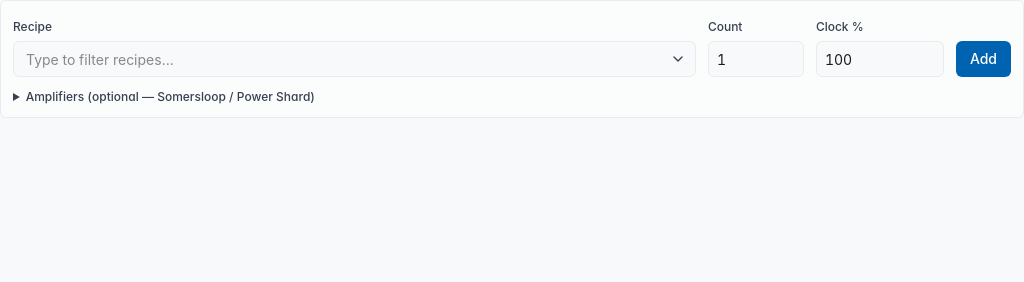
Test: <AddMachineForm /> — amplifiers › rejects a clock above the power-shard cap without round-tripping
Click the dropdown labelled "Recipe": (354, 59) [13,41,696,77]
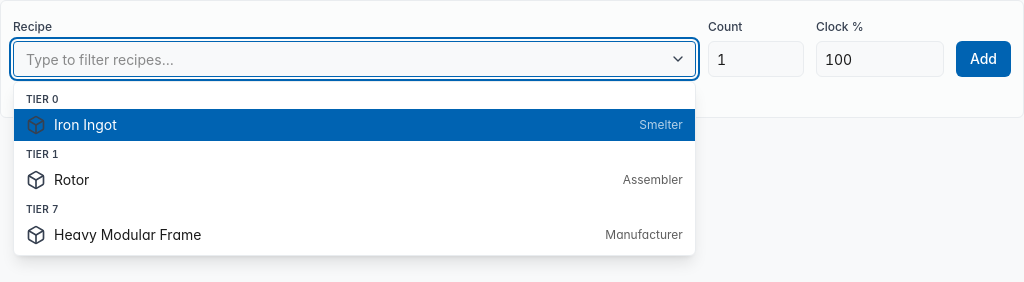
Press Arrowdown
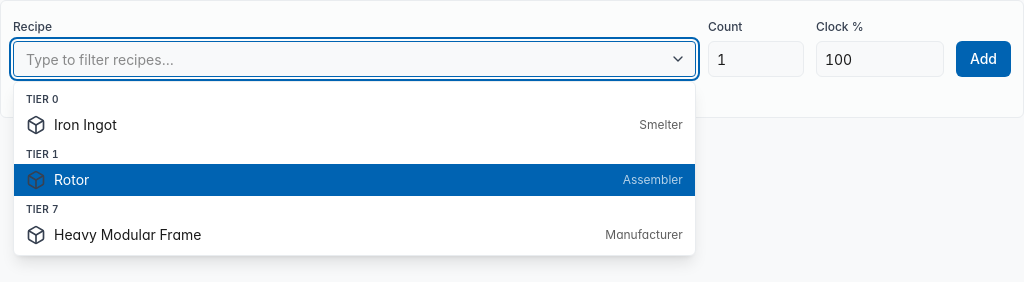
Click the option "Iron Ingot Smelter": (85, 124) [14,109,695,141]
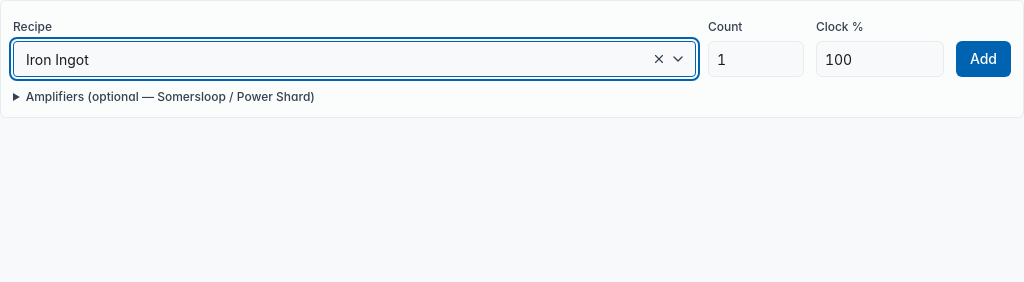
Replace the text in the number field labelled "Clock %" with "200": (880, 59) [816,41,944,77]
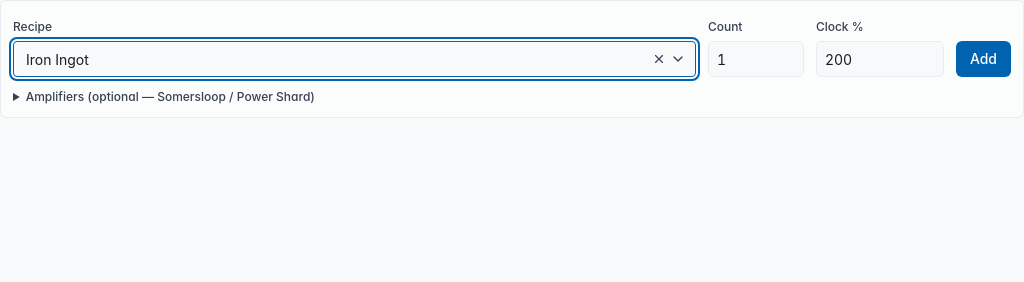
Click the button "Add": (983, 59) [956,41,1011,77]
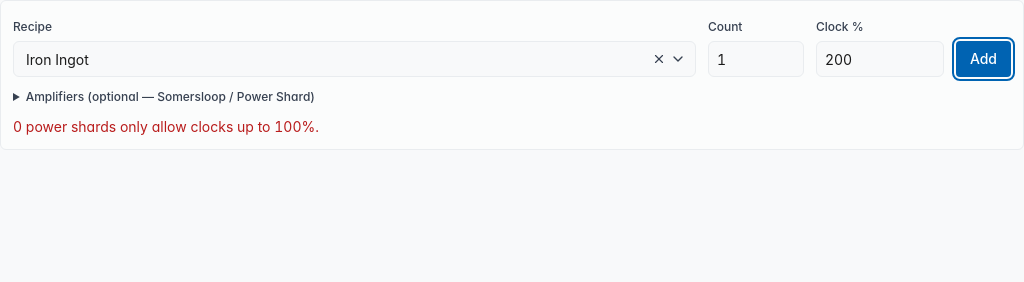
Result: the message shows "only allow clocks up to 100" at [13,118,319,135]
